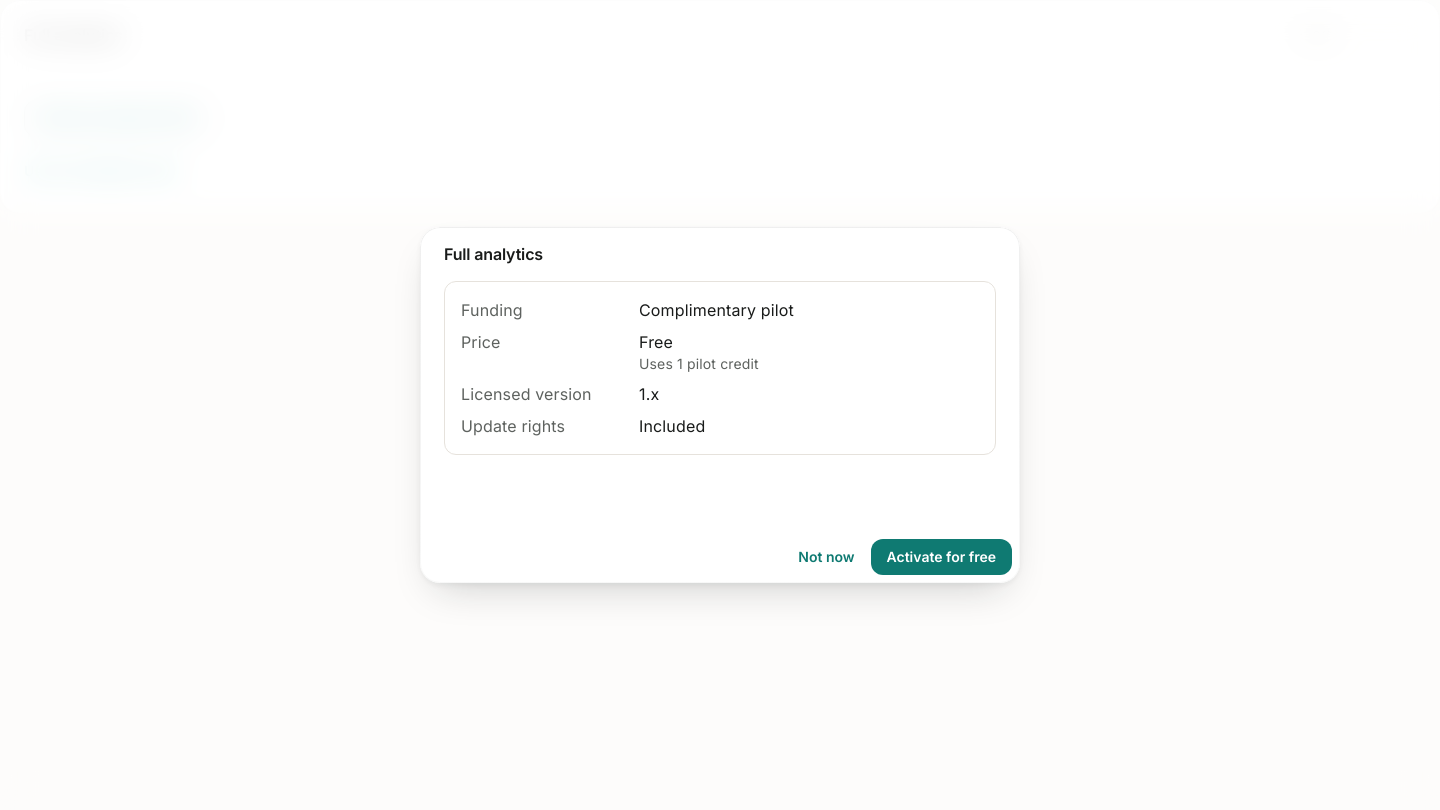
Scenario: owner-driven onboarding controls › ignores a late confirmation failure after the owner has accepted activation
The image size is (1440, 810).
Step 1. Click the button "Activate for free" → click(941, 557), box [870,539,1012,576]
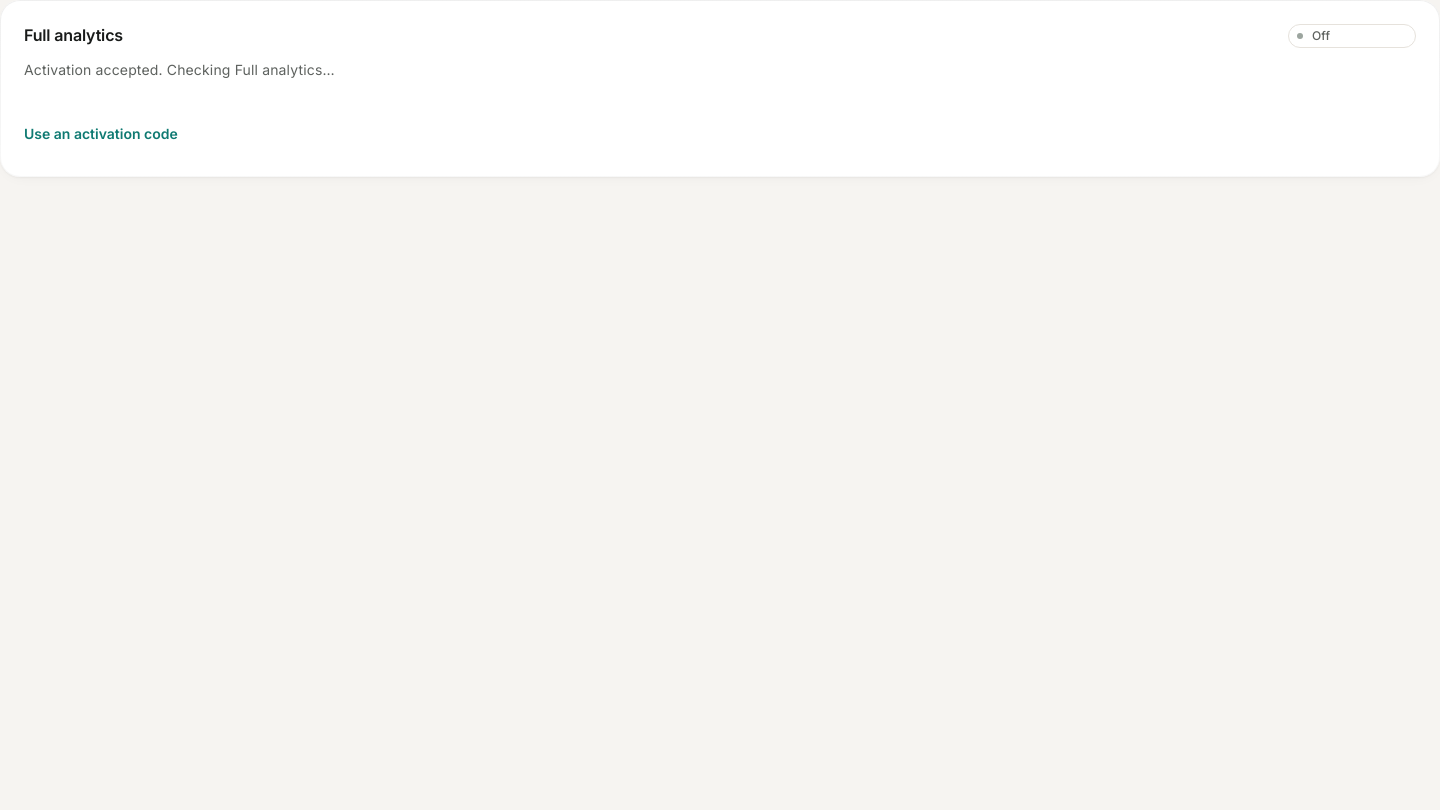
Expected: the button "Activate for free" is gone
Expected: the text "Activation accepted. Checking Full analytics…" is shown, [24,61,335,78]
